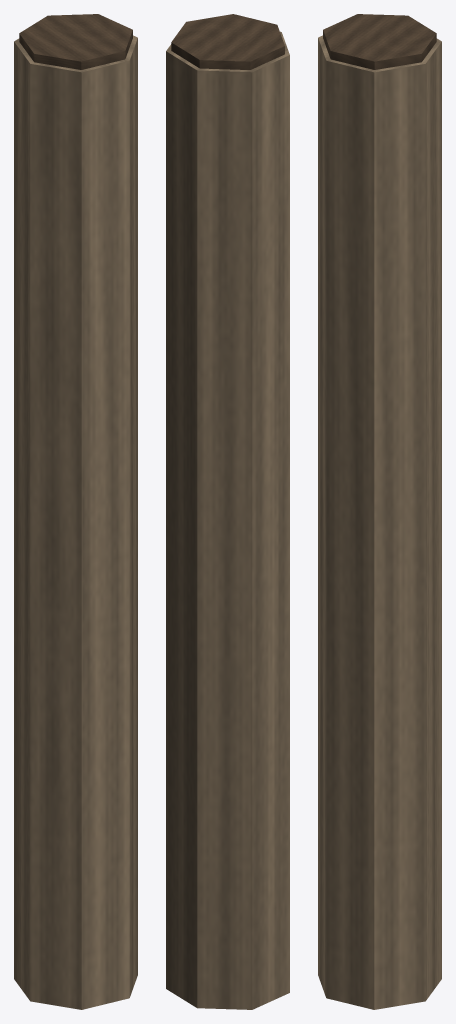
File: wall_post.glb
3 renders of one model, left to right at view 1: azimuth 30°, elevation 25°; view 2: azimuth 150°, elevation 25°; view 3: azimuth 330°, elevation 25°, orthographic.
Visible parts, largest first — view 1: Timber worn edges, Dark endgrain; view 2: Timber worn edges, Dark endgrain; view 3: Timber worn edges, Dark endgrain.
Boxes of the visible parts, x1,y1,x2,y2 form: Timber worn edges: [14, 35, 137, 1009]; Dark endgrain: [19, 14, 132, 69]; Timber worn edges: [166, 31, 289, 1009]; Dark endgrain: [171, 14, 284, 69]; Timber worn edges: [318, 35, 441, 1009]; Dark endgrain: [323, 14, 436, 69].
Bounding box in the file's own units: 0.1657 × 1.39 × 0.1616.
2 materials, 2 textured.
